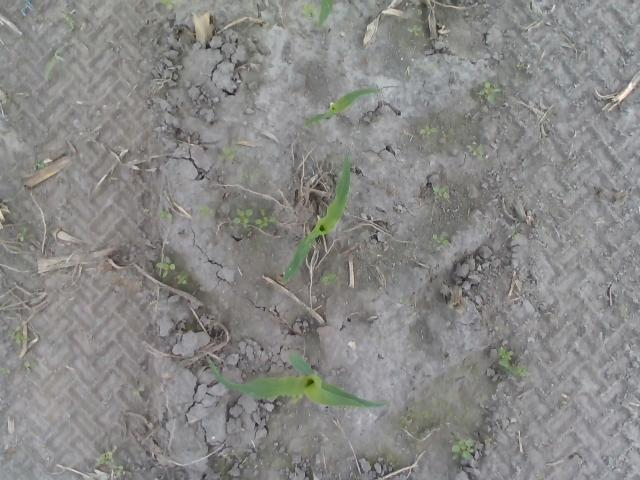Maize: (202, 351, 392, 410), (284, 152, 352, 283), (304, 88, 381, 130)
Weeds: (499, 346, 532, 378), (46, 44, 72, 82), (96, 452, 128, 478), (477, 81, 502, 105), (452, 437, 475, 462), (254, 210, 278, 232), (8, 328, 29, 348), (234, 207, 254, 227), (157, 256, 176, 276), (220, 145, 240, 163), (59, 11, 75, 33), (16, 227, 36, 242), (302, 1, 318, 19), (420, 125, 440, 139), (434, 185, 452, 199), (162, 1, 188, 10), (468, 145, 484, 159), (432, 235, 452, 246), (198, 204, 212, 218), (130, 385, 144, 398), (160, 210, 177, 220), (25, 362, 39, 374), (320, 275, 336, 284), (408, 27, 422, 36), (178, 274, 188, 286), (398, 298, 412, 306), (508, 234, 520, 240), (243, 174, 250, 183), (37, 160, 44, 169)
